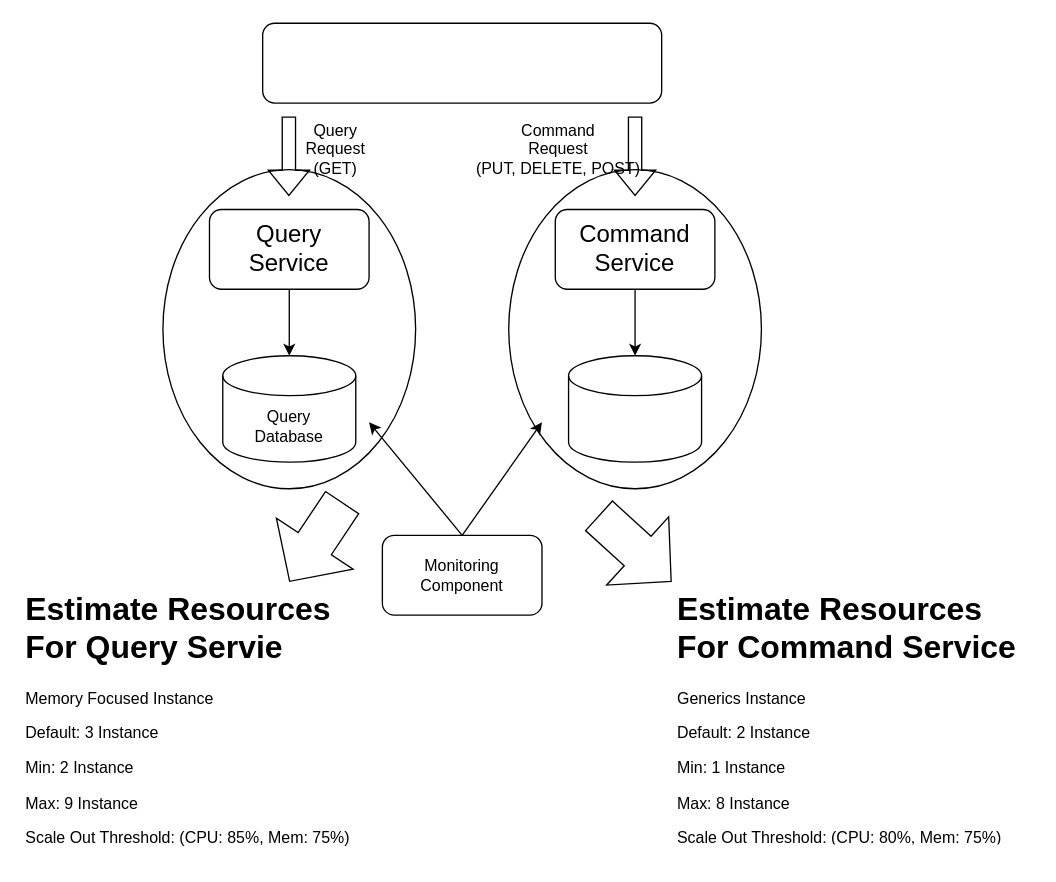
Some shapes in this 1056 by 882 pixel diagram are drawn without their labels. Each missing label, with the centre of its shape:
"Client" goes at point 461,62.
"Command Database" goes at point 634,408.
